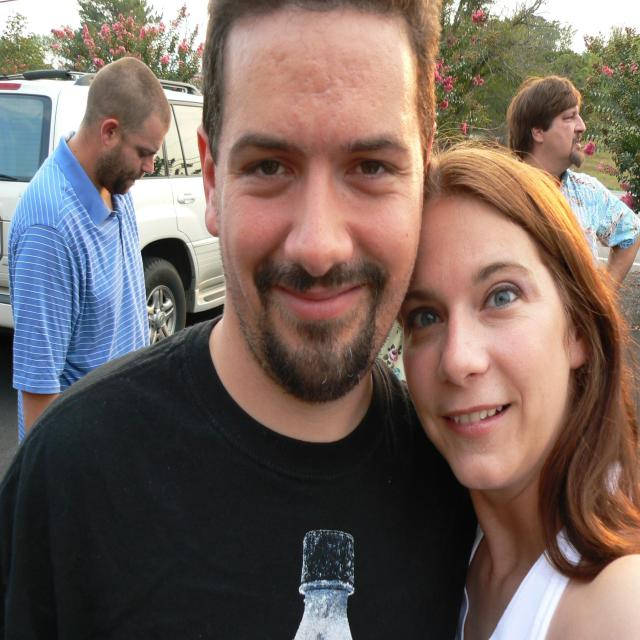no-glass: (232, 145, 408, 188), (408, 281, 525, 333)
